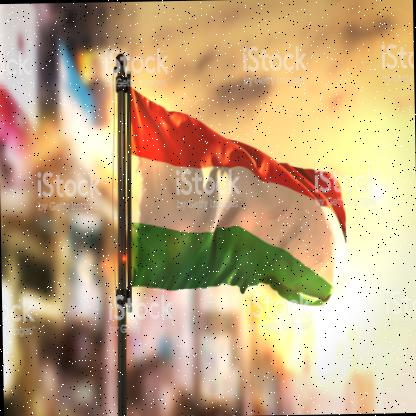hu: (129, 85, 349, 314)
